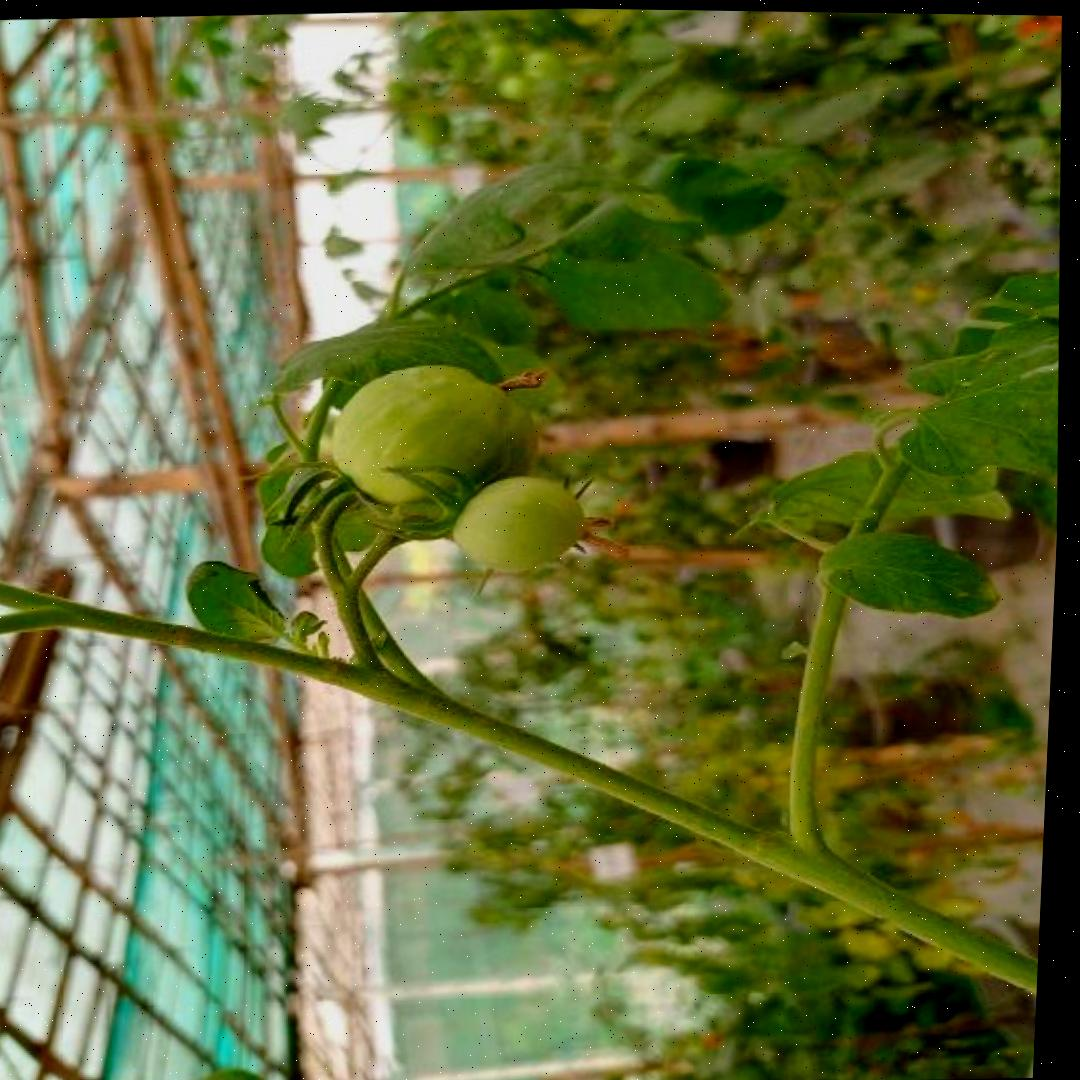mentah: (327, 357, 542, 526), (449, 470, 589, 577)
